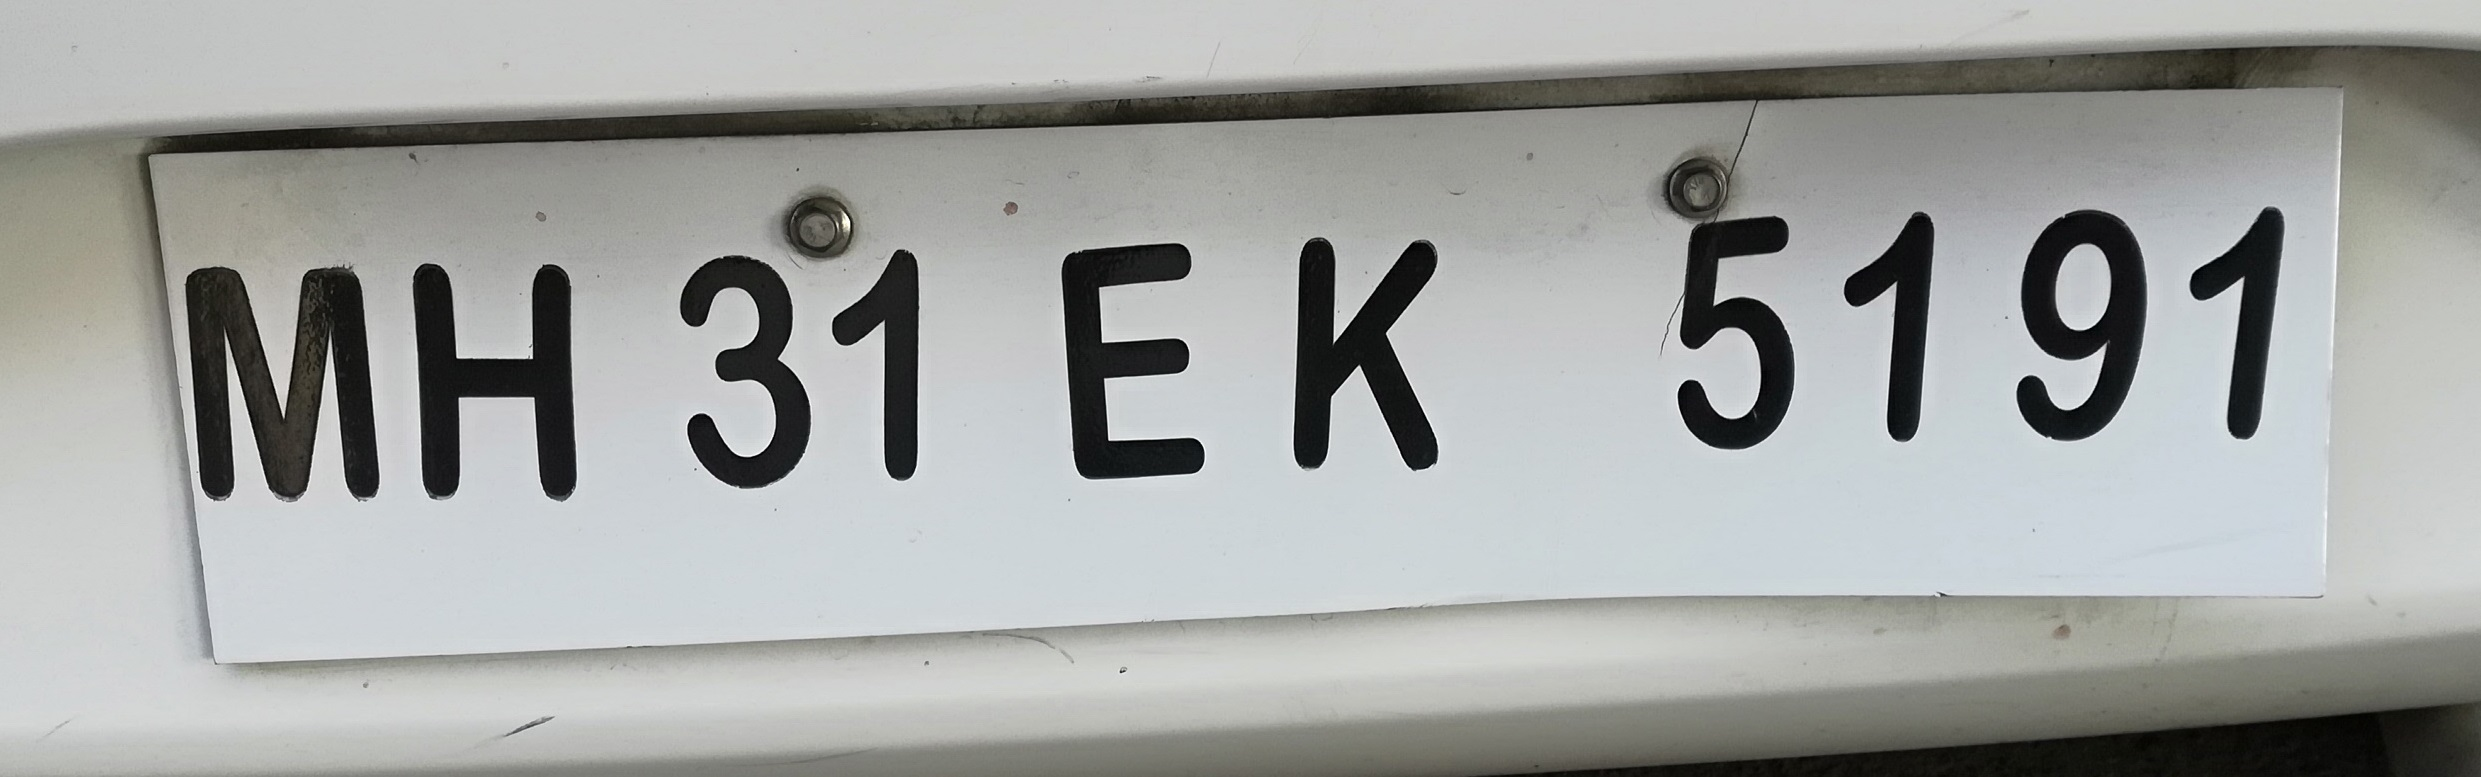numberplate: (147, 74, 2357, 677)
